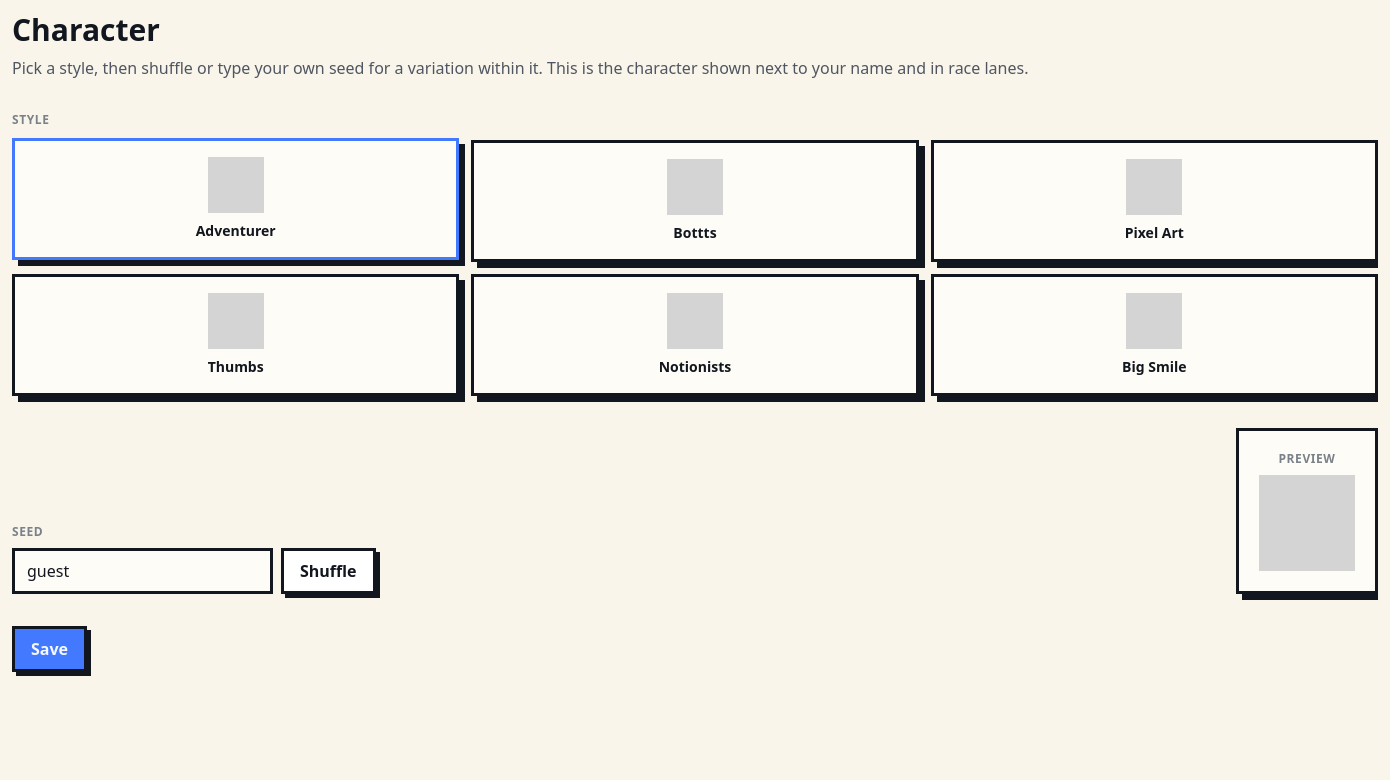
Test: CharacterPage › save persists the selected style and seed to the profile
The image size is (1390, 780).
Click the button "Bottts".
click(695, 201)  # box [471,140,919,262]
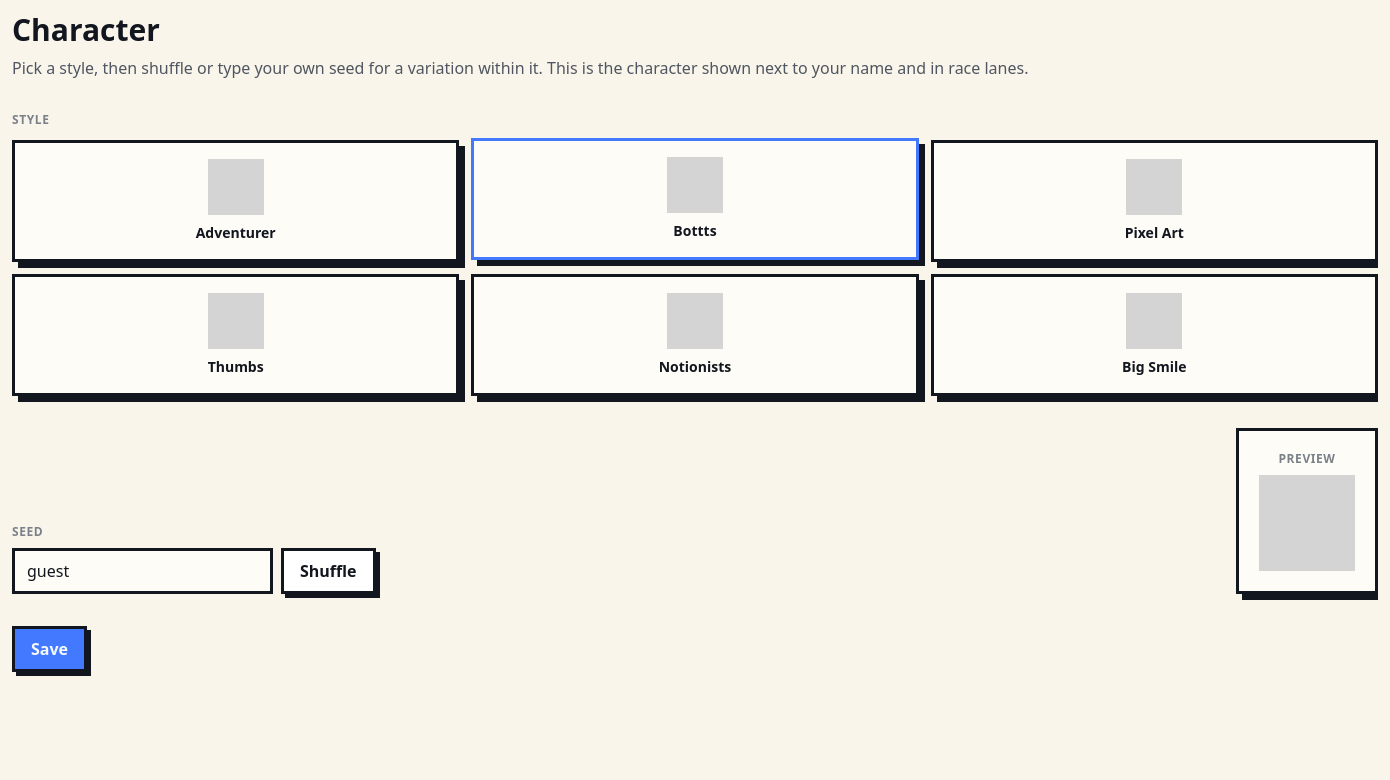
Replace the text in the field labelled "Seed" with "my-custom-seed" at x=142, y=571, box [12,548,273,594]
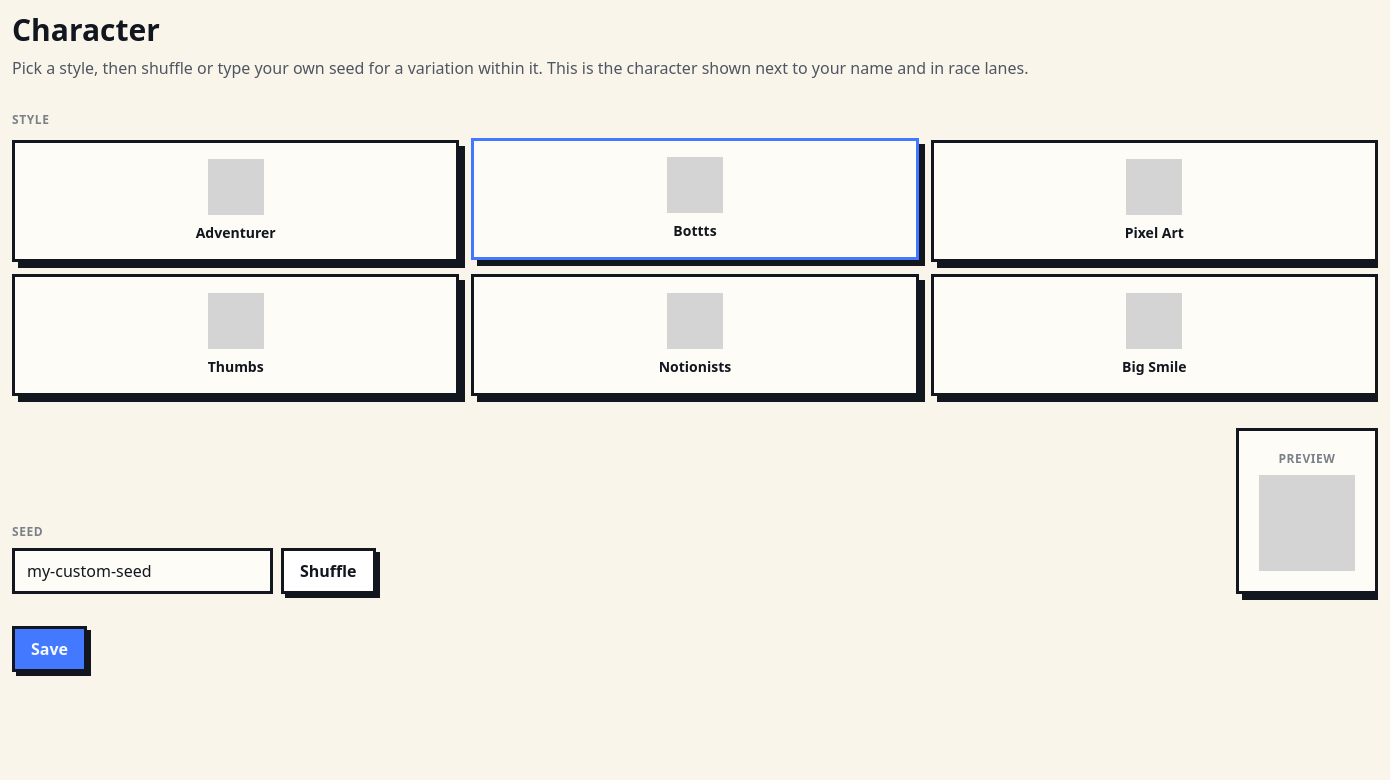
Click the button "Save".
click(50, 649)  # box [12,626,87,672]
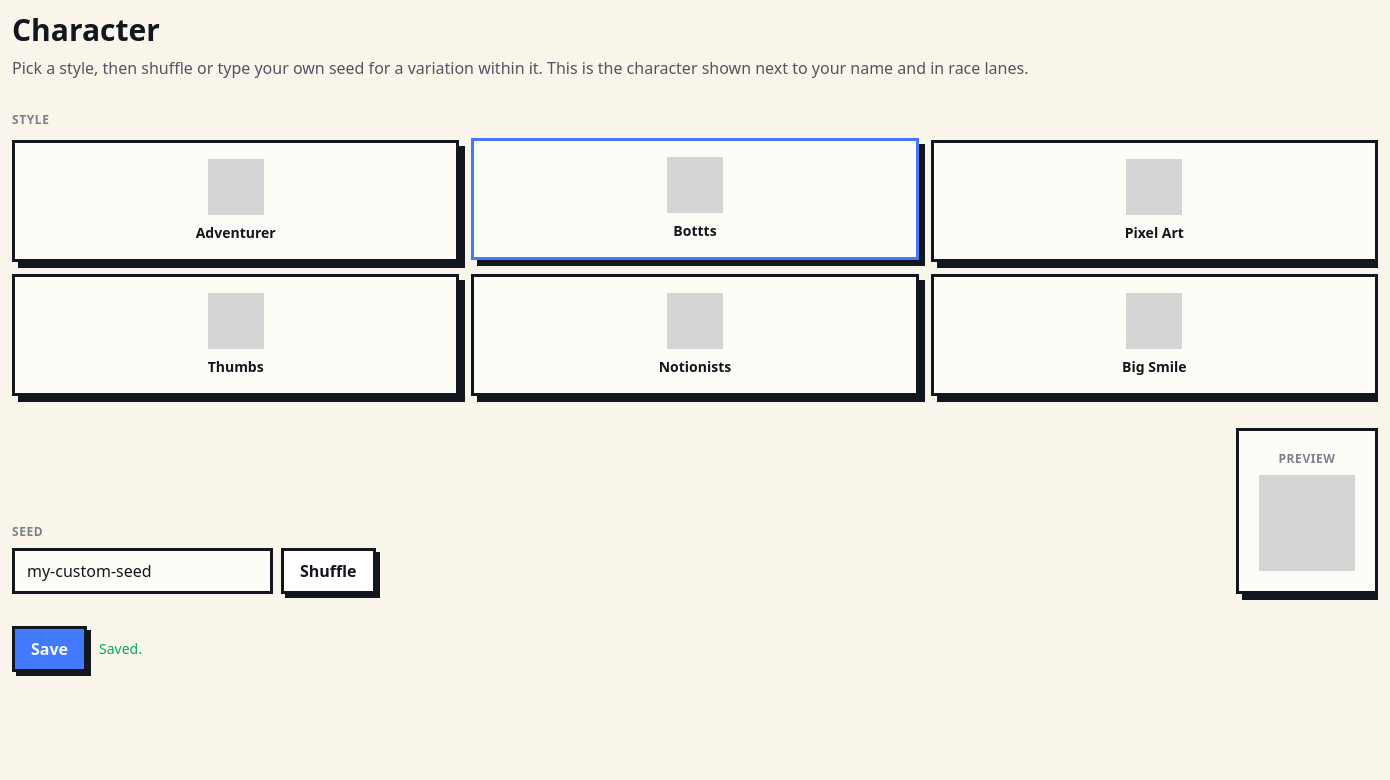
expect the text "Saved." is shown: met, box [99,639,142,659]
